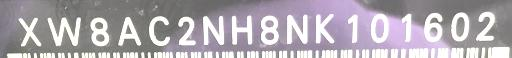letter: (43, 12, 83, 48), (199, 13, 227, 45), (14, 15, 42, 46), (146, 14, 172, 46), (116, 16, 142, 48), (229, 14, 255, 44), (286, 12, 310, 44), (174, 15, 198, 47), (314, 10, 336, 44), (368, 10, 390, 44), (422, 11, 444, 45), (87, 16, 111, 47), (474, 9, 496, 40), (450, 11, 470, 44), (258, 14, 280, 44), (399, 12, 415, 44), (343, 13, 359, 45)
